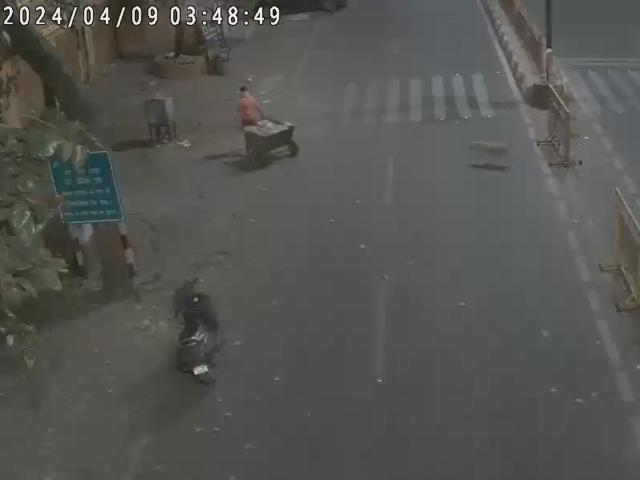scooty: (173, 278, 225, 387)
